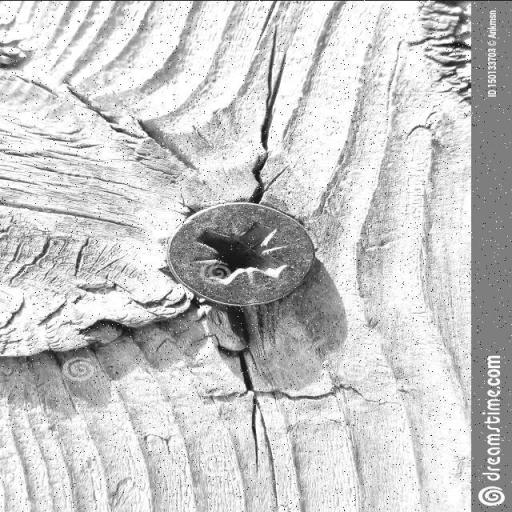Pozidriv: (170, 180, 319, 326)
